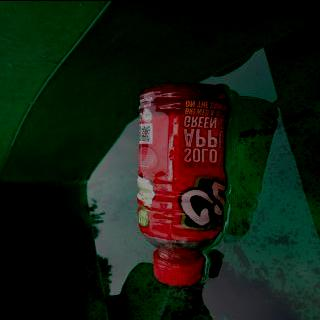bottle: (136, 81, 230, 285)
